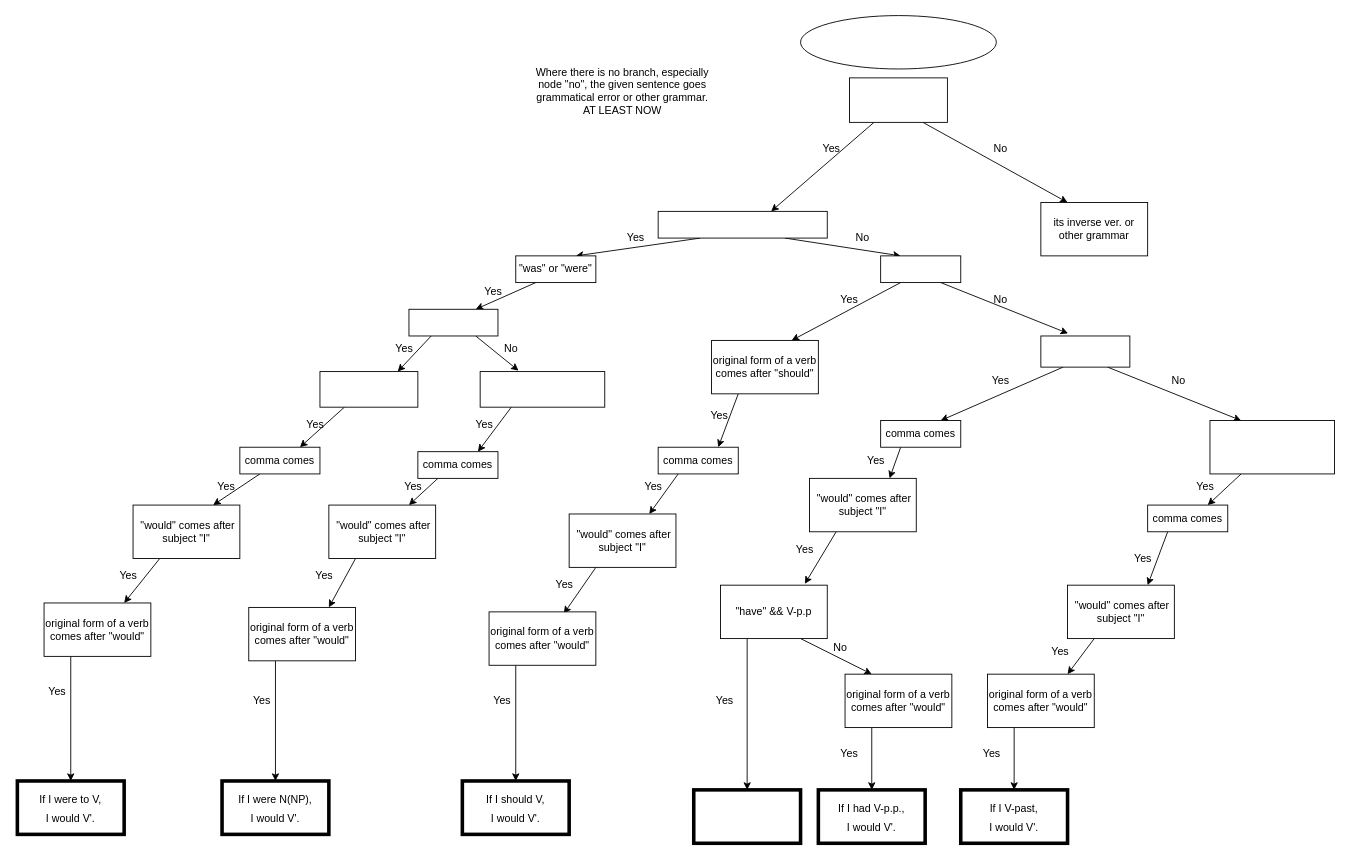
Some shapes in this 1350 by 861 pixel diagram are drawn without their labels. Each missing label, with the centre of its shape:
"had" && V-p.p.: pixel 1085 351
"If" comes the head of a sentence: pixel 898 99
"should": pixel 920 269
"to": pixel 453 322
be-Verb comes after subject "I": pixel 742 224
If I .... , I would .... .: pixel 898 42
If I had V-p.p., I would have V'-p.p.: pixel 747 816
noun (phrase) or adjective (-tival phrase): pixel 542 389
original form of verb comes: pixel 368 389
past form of a verb comes after subject "I": pixel 1272 447
